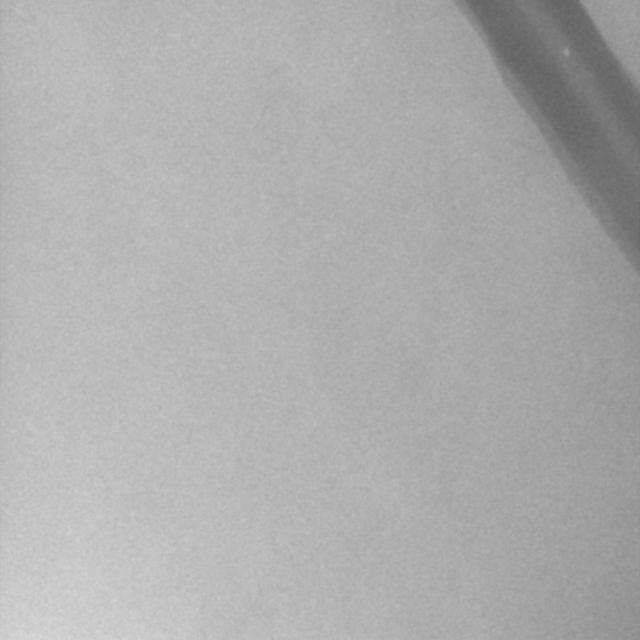air-hole: (560, 48, 570, 58)
